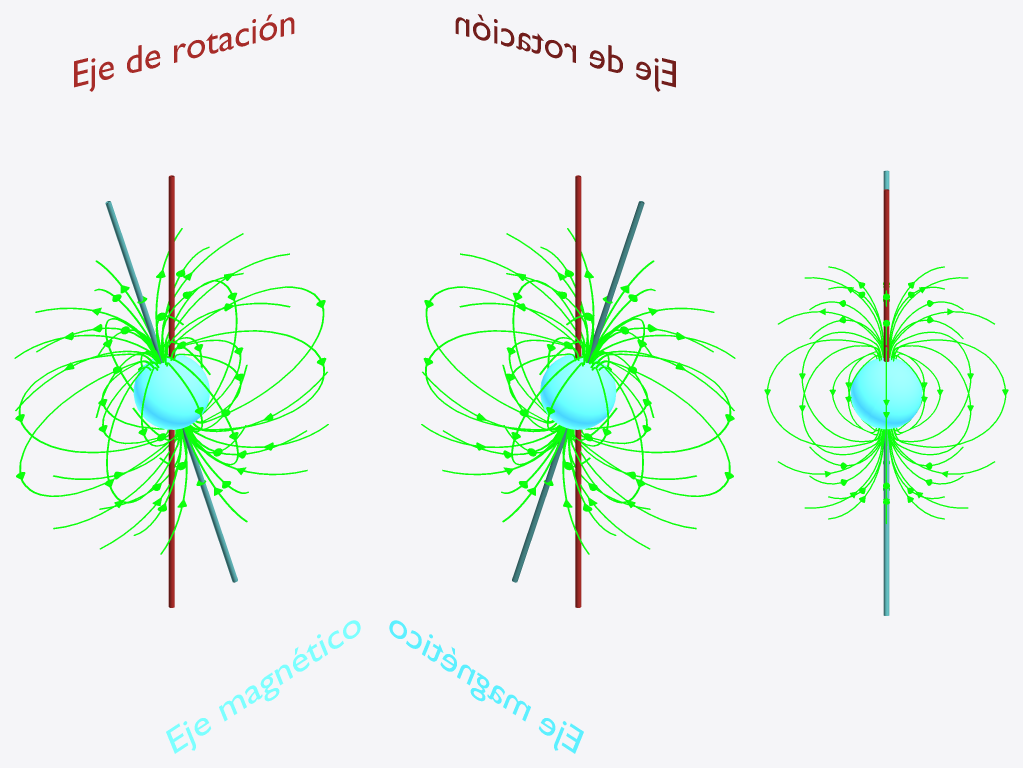
Rendered from estrella campo decimated.glb.
3 views of the same model, side by side, from view 1: azimuth 30°, elevation 25°; view 2: azimuth 150°, elevation 25°; view 3: azimuth 270°, elevation 25° (orthographic). The views are drawn at different scales.
Visible parts, largest first — view 1: Texto-letra-campo-magnetico, Cylinder.001, Text, Text.001, Cylinder; view 2: Texto-letra-campo-magnetico, Cylinder.001, Text, Text.001, Cylinder; view 3: Texto-letra-campo-magnetico, Cylinder, Cylinder.001.
Part boxes in pixels (bbox=[...]): Texto-letra-campo-magnetico: bbox=[14, 228, 328, 554]; Cylinder.001: bbox=[168, 175, 174, 607]; Text: bbox=[74, 14, 294, 91]; Text.001: bbox=[166, 620, 360, 753]; Cylinder: bbox=[105, 201, 237, 582]; Texto-letra-campo-magnetico: bbox=[421, 228, 735, 554]; Cylinder.001: bbox=[575, 175, 581, 607]; Text: bbox=[455, 14, 675, 91]; Text.001: bbox=[389, 620, 583, 753]; Cylinder: bbox=[512, 201, 644, 582]; Texto-letra-campo-magnetico: bbox=[764, 266, 1008, 523]; Cylinder: bbox=[883, 170, 889, 615]; Cylinder.001: bbox=[883, 189, 889, 361].
Size of the model in its own units: 9.44 by 18.76 by 6.14.
